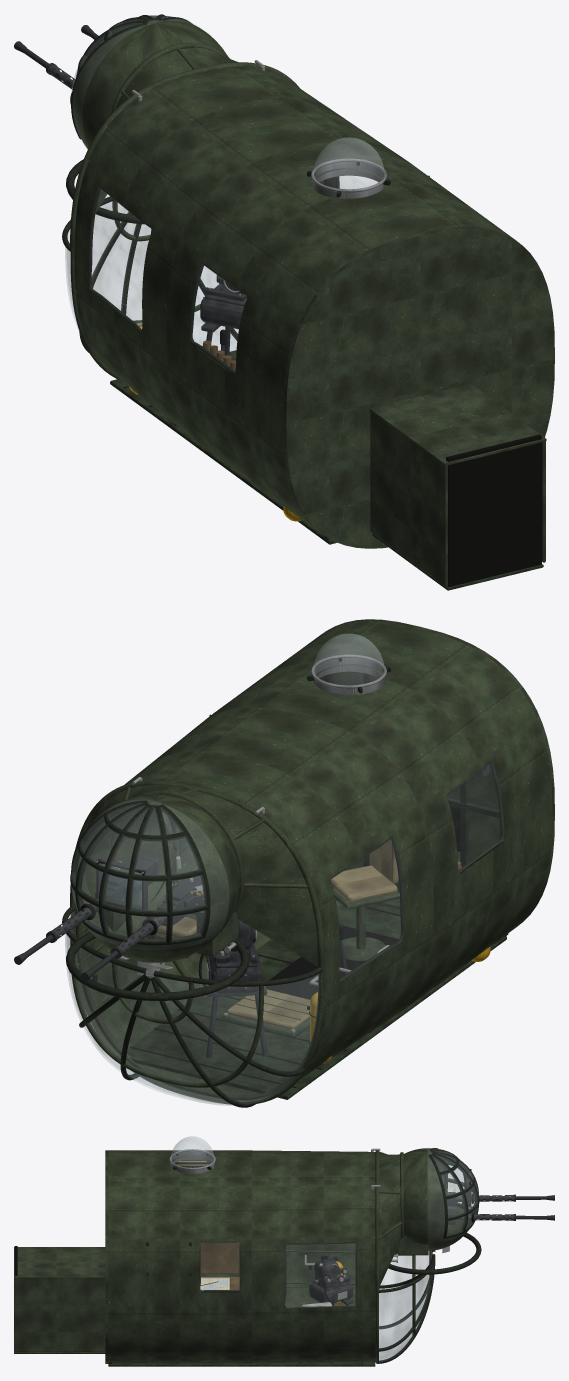
Rendered from b24-nose.glb.
The picture shows the model from 3 angles, top to bottom: view 1: azimuth 30°, elevation 25°; view 2: azimuth 150°, elevation 25°; view 3: azimuth 270°, elevation 25°; orthographic projection. The views are drawn at different scales.
Visible parts, largest first — view 1: b24_skin_nose, b24_intg, b24_dark, b24_pglass, b24_ballskin_n, b24_frame, b24_domeglass, b24_dkgreen, b24_alu, b24_crinkle; view 2: b24_skin_nose, b24_pglass, b24_intg, b24_frame, b24_dkgreen, b24_ballskin_n, b24_tan, b24_olive, b24_gun, b24_crinkle, b24_domeglass, b24_rubber (+4 smaller); view 3: b24_skin_nose, b24_intg, b24_pglass, b24_frame, b24_ballskin_n, b24_crinkle, b24_ply, b24_dkgreen, b24_domeglass, b24_gun, b24_alu, b24_jacket (+3 smaller).
Boxes of the visible parts, x1,y1,x2,y2 form: b24_skin_nose: [74, 66, 516, 531]; b24_intg: [70, 42, 554, 586]; b24_dark: [446, 434, 541, 587]; b24_pglass: [65, 15, 356, 372]; b24_ballskin_n: [73, 19, 227, 148]; b24_frame: [62, 14, 390, 539]; b24_domeglass: [313, 137, 384, 188]; b24_dkgreen: [110, 350, 543, 590]; b24_alu: [311, 158, 386, 198]; b24_crinkle: [200, 275, 246, 355]; b24_skin_nose: [81, 621, 552, 1094]; b24_pglass: [65, 763, 503, 1105]; b24_intg: [70, 619, 554, 1104]; b24_frame: [62, 654, 508, 1107]; b24_dkgreen: [127, 851, 506, 1099]; b24_ballskin_n: [77, 794, 239, 962]; b24_tan: [147, 839, 398, 1029]; b24_olive: [97, 879, 399, 1038]; b24_gun: [14, 714, 347, 981]; b24_crinkle: [133, 764, 491, 1058]; b24_domeglass: [313, 633, 384, 684]; b24_rubber: [80, 894, 399, 1009]; b24_skin_nose: [108, 1150, 375, 1363]; b24_intg: [14, 1150, 432, 1363]; b24_pglass: [200, 1148, 478, 1361]; b24_frame: [108, 1148, 481, 1363]; b24_ballskin_n: [404, 1148, 470, 1250]; b24_crinkle: [309, 1192, 455, 1305]; b24_ply: [200, 1242, 239, 1289]; b24_dkgreen: [14, 1352, 375, 1366]; b24_domeglass: [171, 1136, 217, 1284]; b24_gun: [227, 1169, 554, 1224]; b24_alu: [169, 1149, 449, 1253]; b24_jacket: [457, 1195, 513, 1220].
Size of the model in its own units: 1.86 by 2.3 by 5.27.
Materials: 33 (18 with a texture image).
